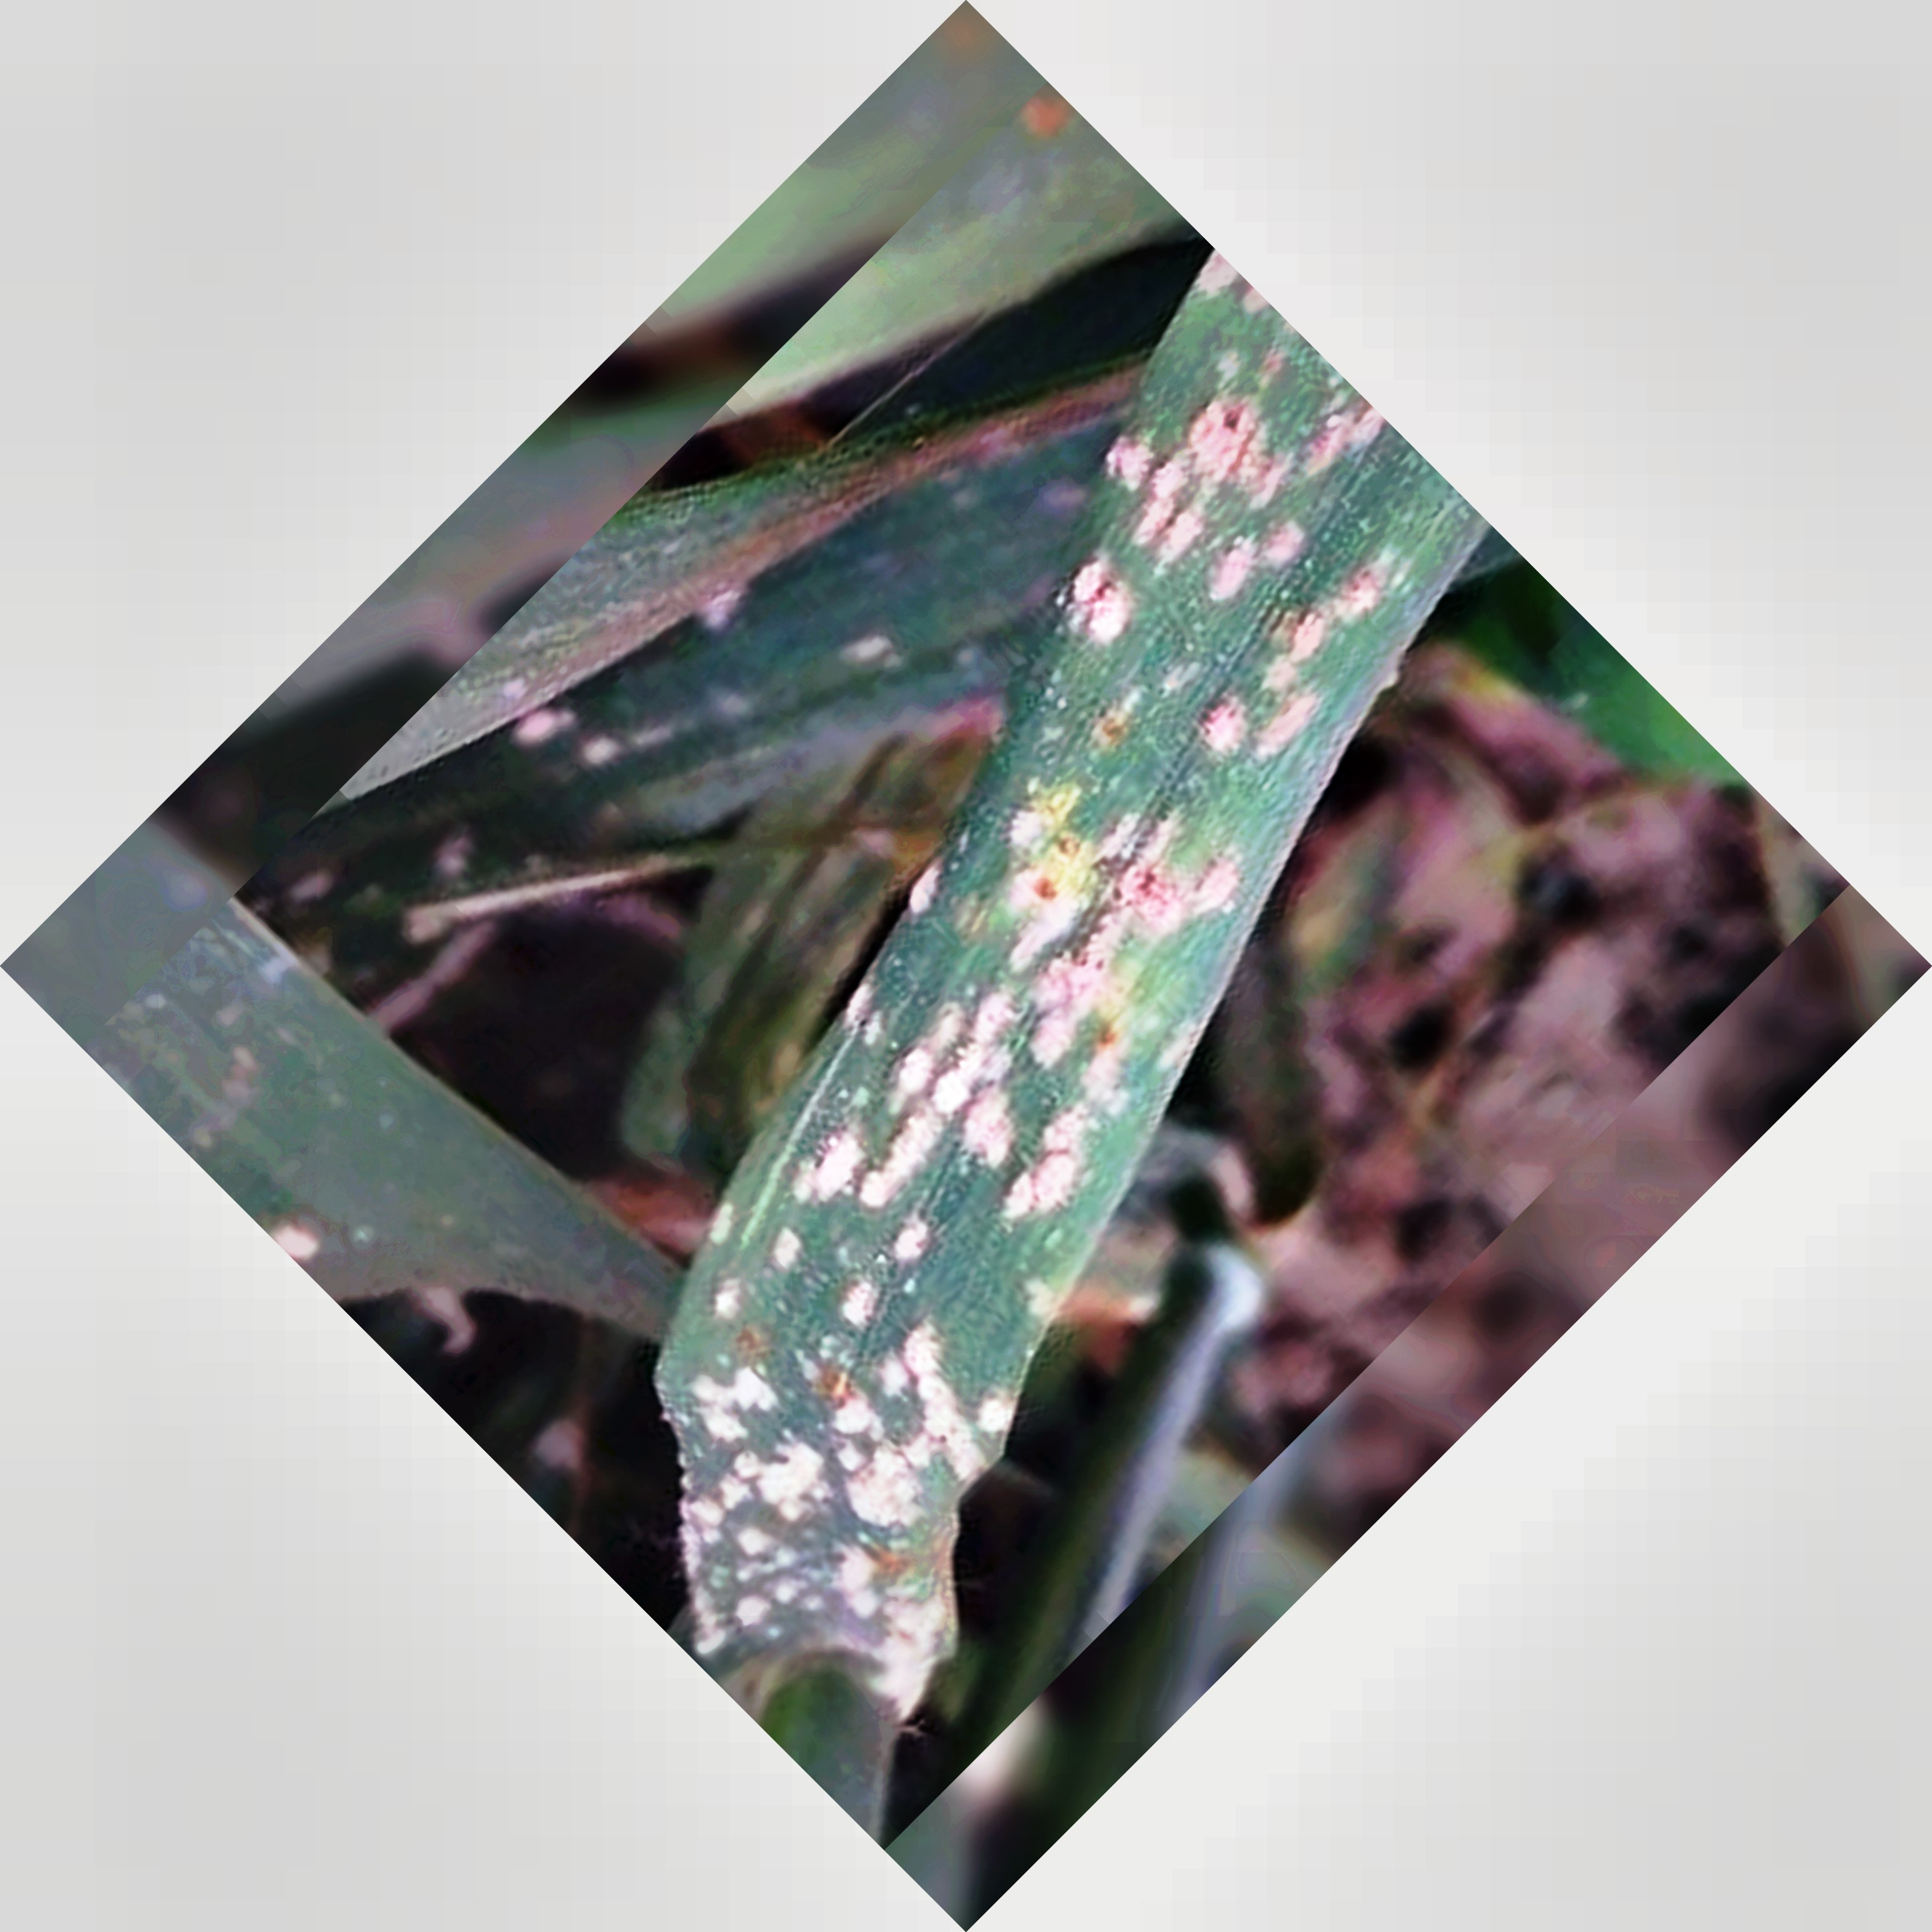Powdery Mildew: (676, 368, 1399, 1468)
